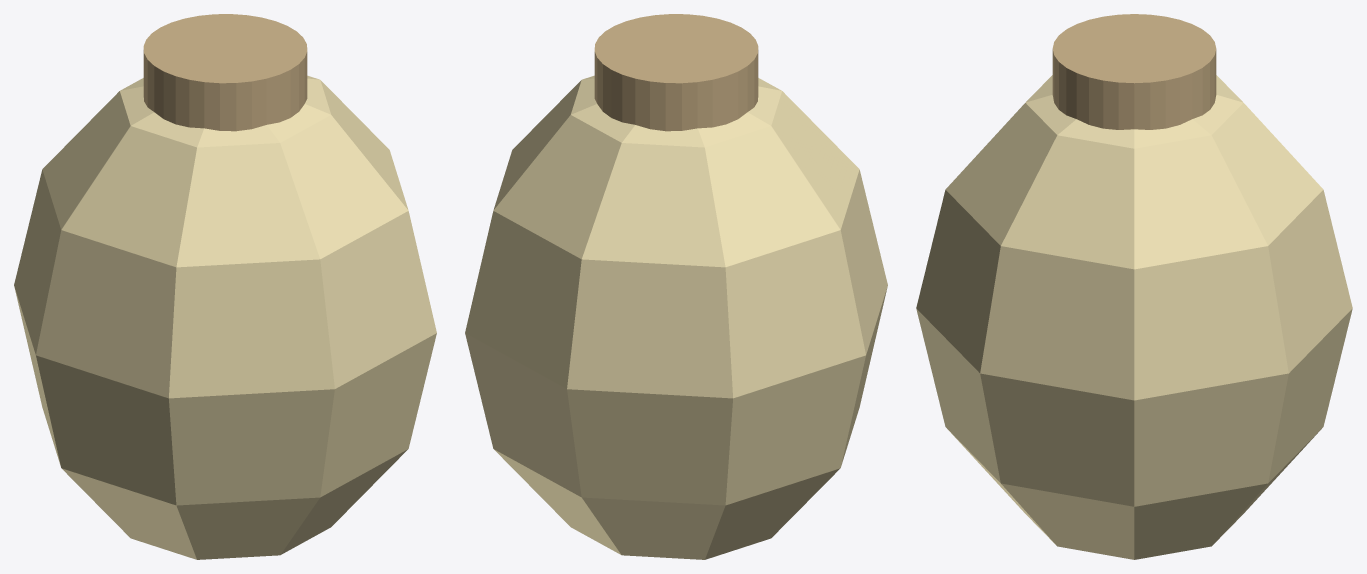
The model's file is grain.glb.
The picture shows the model from 3 angles, left to right: view 1: azimuth 30°, elevation 25°; view 2: azimuth 150°, elevation 25°; view 3: azimuth 270°, elevation 25°; orthographic projection.
Visible parts, largest first — view 1: grain_sack, grain_tie; view 2: grain_sack, grain_tie; view 3: grain_sack, grain_tie.
Part boxes in pixels (x1,y1,x2,y2): grain_sack: (14,75,436,559); grain_tie: (143,14,307,131); grain_sack: (465,75,887,559); grain_tie: (594,14,758,131); grain_sack: (916,75,1352,559); grain_tie: (1052,14,1216,129).
Bounding box in the file's own units: 0.16 × 0.201 × 0.16.
